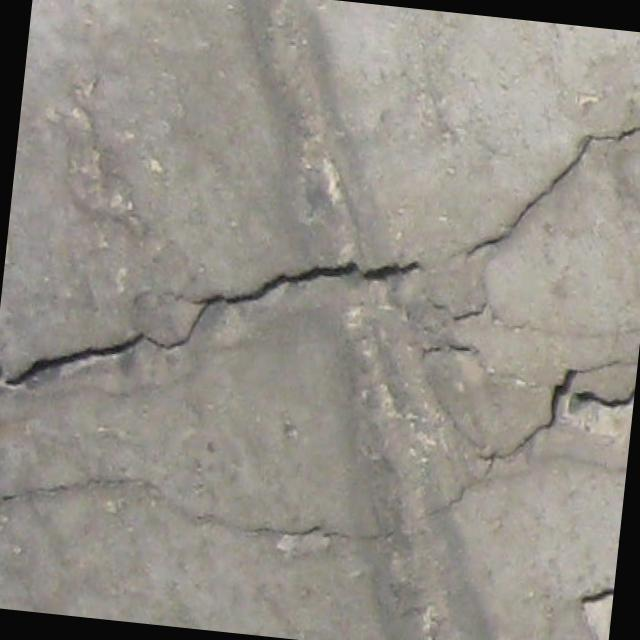crack: (0, 161, 520, 443), (0, 396, 495, 579), (494, 108, 640, 482)
spall: (521, 359, 635, 640)
